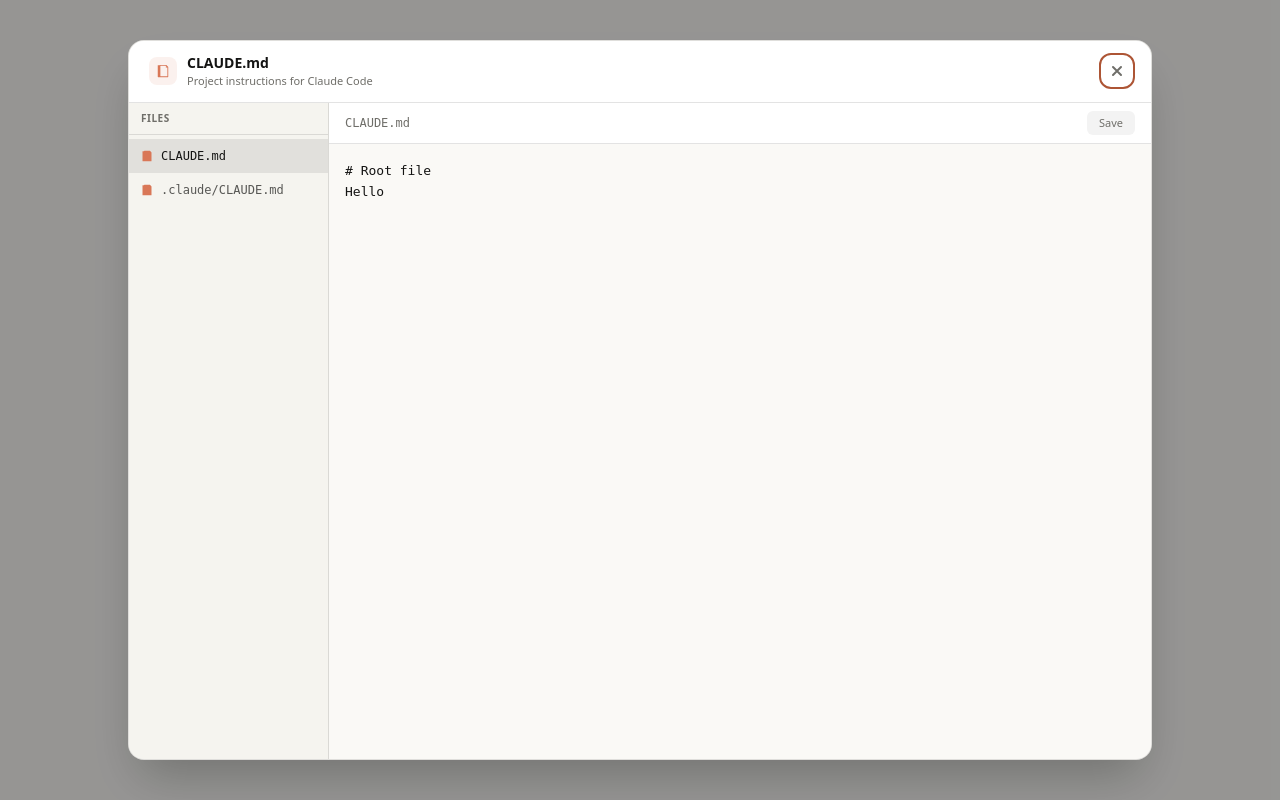
Test: ClaudeMdEditor › saves content via API and clears the dirty state
Expected: the text "Files" is shown, top-left (129, 102), bottom-right (328, 134)
# Edit to make dirty
Replace the text in the text box with "New content" at (740, 452), box top-left (329, 144), bottom-right (1151, 759)
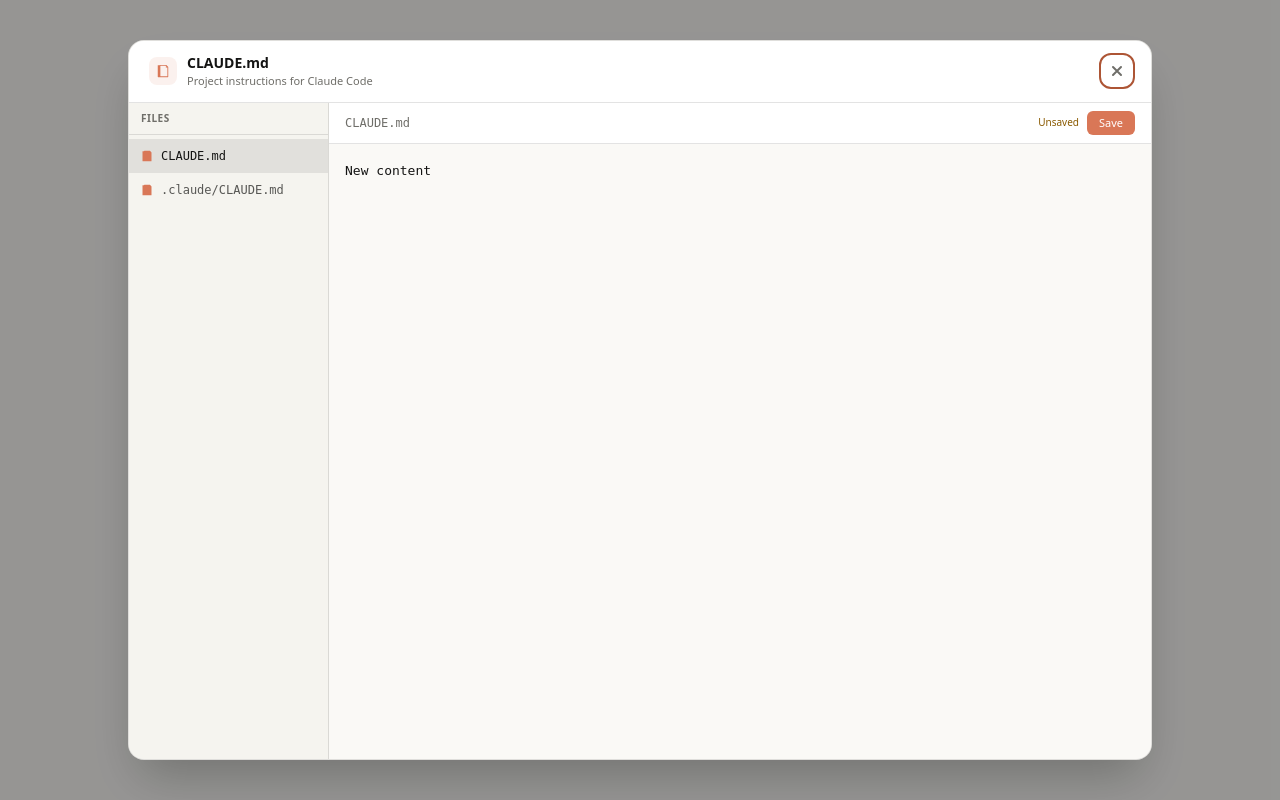
Expected: the text "Unsaved" is shown, top-left (1038, 115), bottom-right (1079, 130)
# The Save button should be enabled
Click the button "Save" at (1111, 123), box top-left (1087, 110), bottom-right (1135, 135)
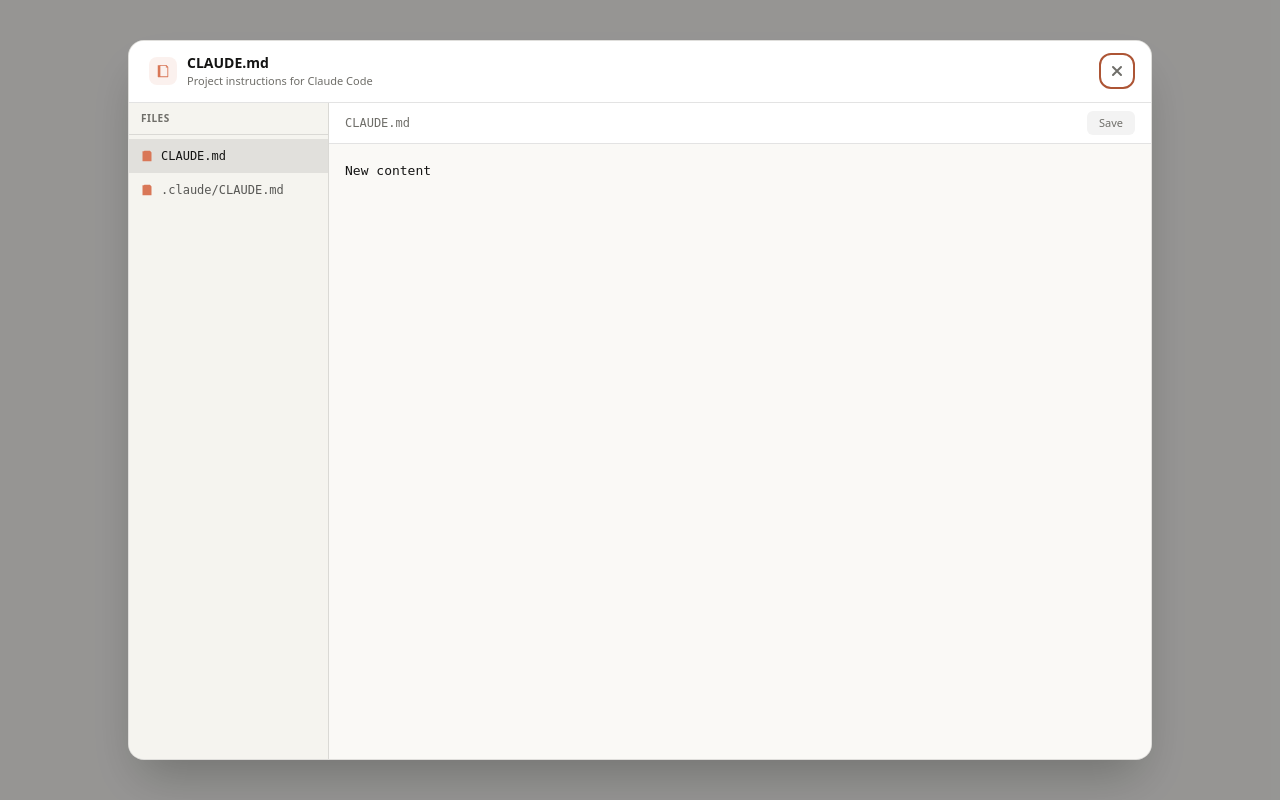
Expected: the text "Unsaved" is gone
